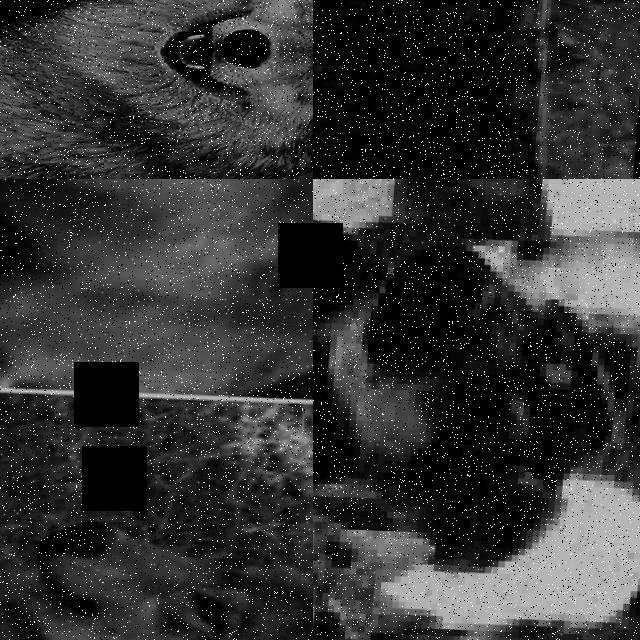dog: (313, 179, 640, 568), (313, 525, 640, 640)
wolf: (0, 179, 313, 423), (0, 433, 313, 640), (0, 0, 313, 179)
